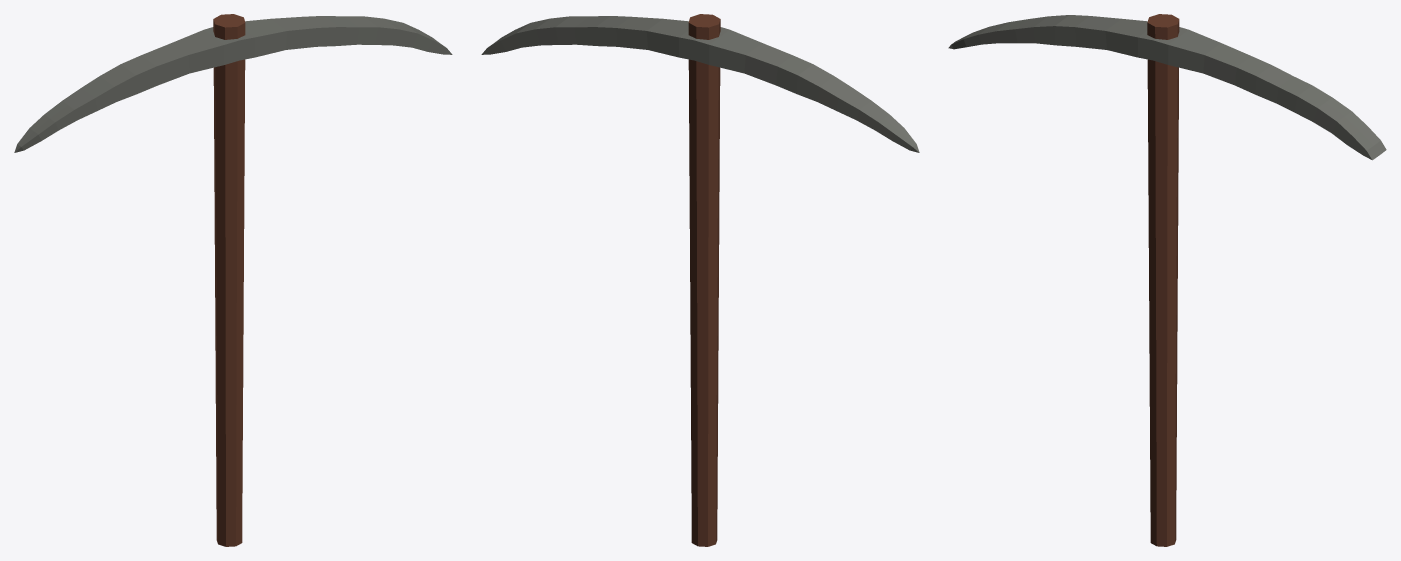
Rendered from Pickaxe2_0.fbx.
The picture shows the model from 3 angles, left to right: view 1: azimuth 30°, elevation 25°; view 2: azimuth 150°, elevation 25°; view 3: azimuth 330°, elevation 25°; orthographic projection.
Visible parts, largest first — view 1: Cylinder, Plane; view 2: Cylinder, Plane; view 3: Cylinder, Plane.
Part boxes in pixels (x1,y1,x2,y2): Cylinder: (213, 14, 245, 546); Plane: (14, 16, 452, 152); Cylinder: (688, 14, 720, 546); Plane: (481, 16, 919, 152); Cylinder: (1147, 14, 1179, 546); Plane: (948, 15, 1386, 160).
Size of the model in its own units: 81.05 by 93.52 by 6.72.
